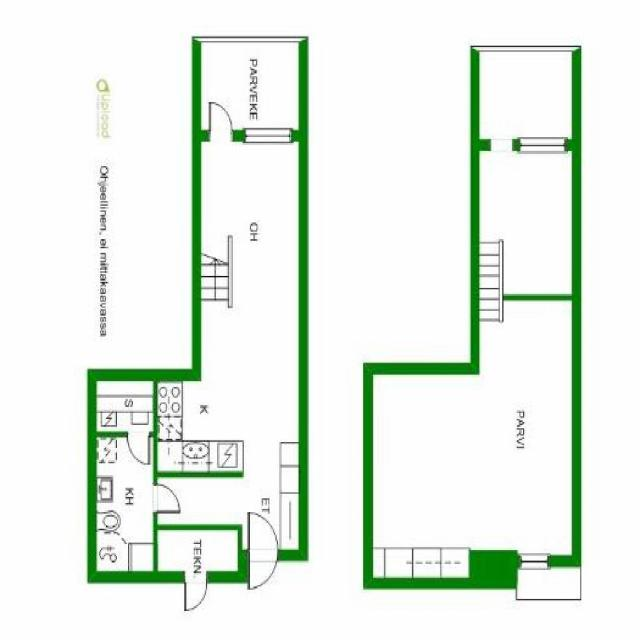door: (250, 516, 277, 560), (250, 550, 277, 594), (185, 572, 207, 610), (210, 103, 232, 141), (153, 484, 180, 512), (127, 431, 149, 464)
